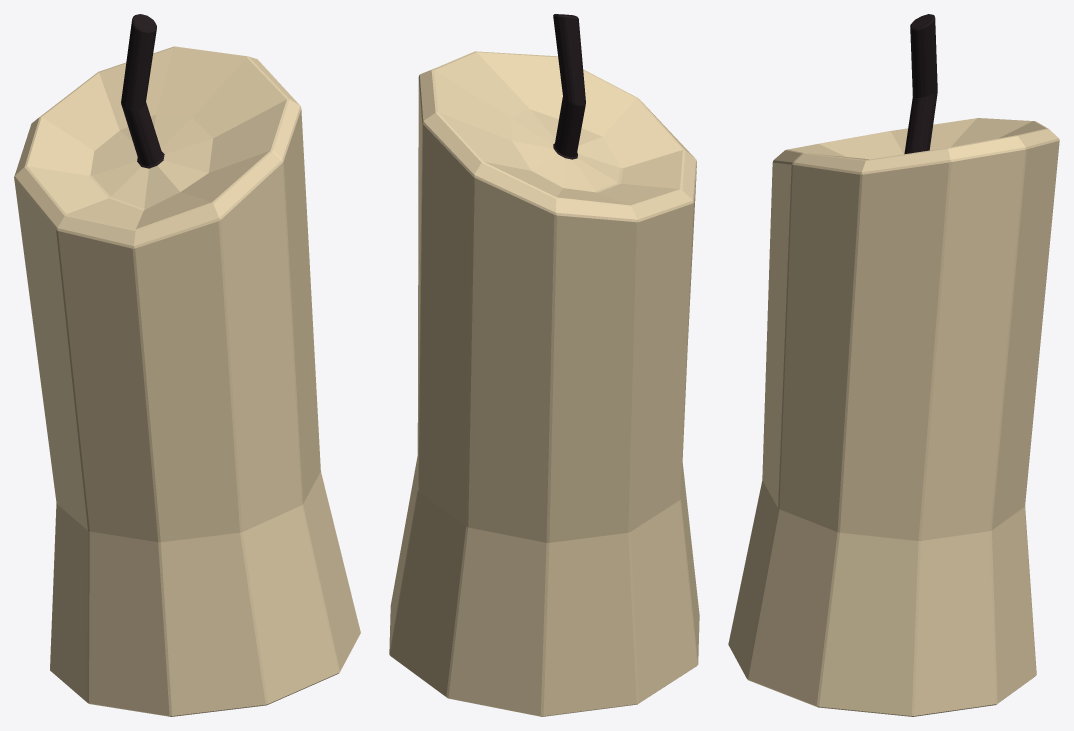
Rendered from Candle.fbx.
3 renders of one model, left to right at view 1: azimuth 30°, elevation 25°; view 2: azimuth 150°, elevation 25°; view 3: azimuth 270°, elevation 25°, orthographic. The views are drawn at different scales.
Visible parts, largest first — view 1: Candle; view 2: Candle; view 3: Candle.
Part boxes in pixels (x1=…): Candle: x1=14, y1=14, x2=360, y2=716; Candle: x1=389, y1=14, x2=699, y2=716; Candle: x1=728, y1=14, x2=1059, y2=716.
Size of the model in its own units: 42.84 by 94.02 by 44.32.
